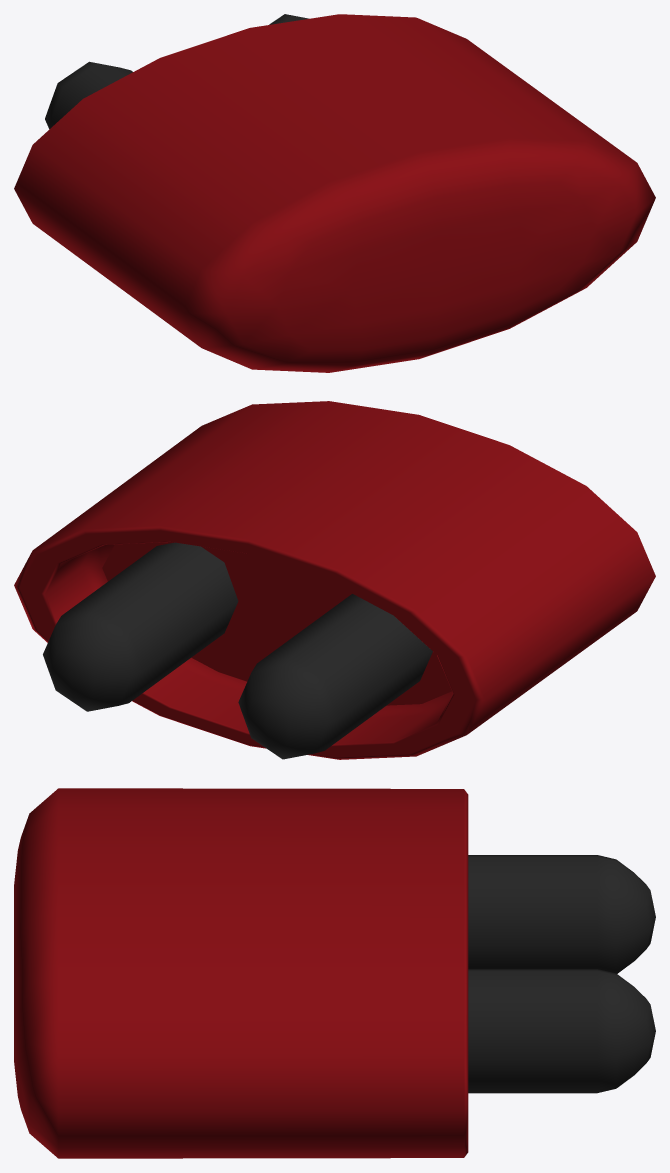
File: Ship_enemy_03_Engine.fbx
3 views of the same model, one above another, from view 1: azimuth 30°, elevation 25°; view 2: azimuth 150°, elevation 25°; view 3: azimuth 270°, elevation 25° (orthographic). The views are drawn at different scales.
Visible parts, largest first — view 1: Ship_enemy_03_Engine; view 2: Ship_enemy_03_Engine; view 3: Ship_enemy_03_Engine.
Boxes of the visible parts, <box> form: Ship_enemy_03_Engine: <box>14,14,655,372</box>; Ship_enemy_03_Engine: <box>14,401,655,759</box>; Ship_enemy_03_Engine: <box>14,788,655,1158</box>.
Size of the model in its own units: 152 by 63.71 by 150.
